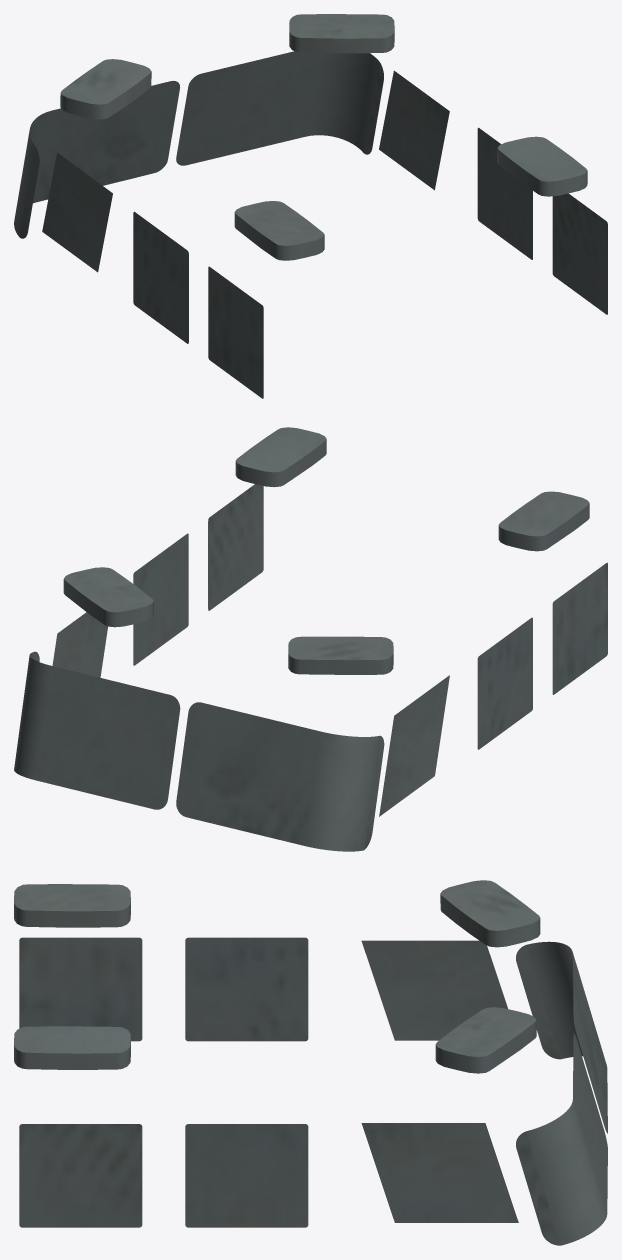
The model's file is FireEngine_Glass.obj.
3 views of the same model, one above another, from view 1: azimuth 30°, elevation 25°; view 2: azimuth 150°, elevation 25°; view 3: azimuth 270°, elevation 25° (orthographic). The views are drawn at different scales.
Visible parts, largest first — view 1: mounts_mounts.000; view 2: mounts_mounts.000; view 3: mounts_mounts.000.
Part boxes in pixels (left/top/right/bottom): mounts_mounts.000: left=14, top=14, right=607, bottom=398; mounts_mounts.000: left=14, top=427, right=607, bottom=851; mounts_mounts.000: left=14, top=880, right=607, bottom=1245.
Size of the model in its own units: 2.45 by 1.13 by 3.3.
